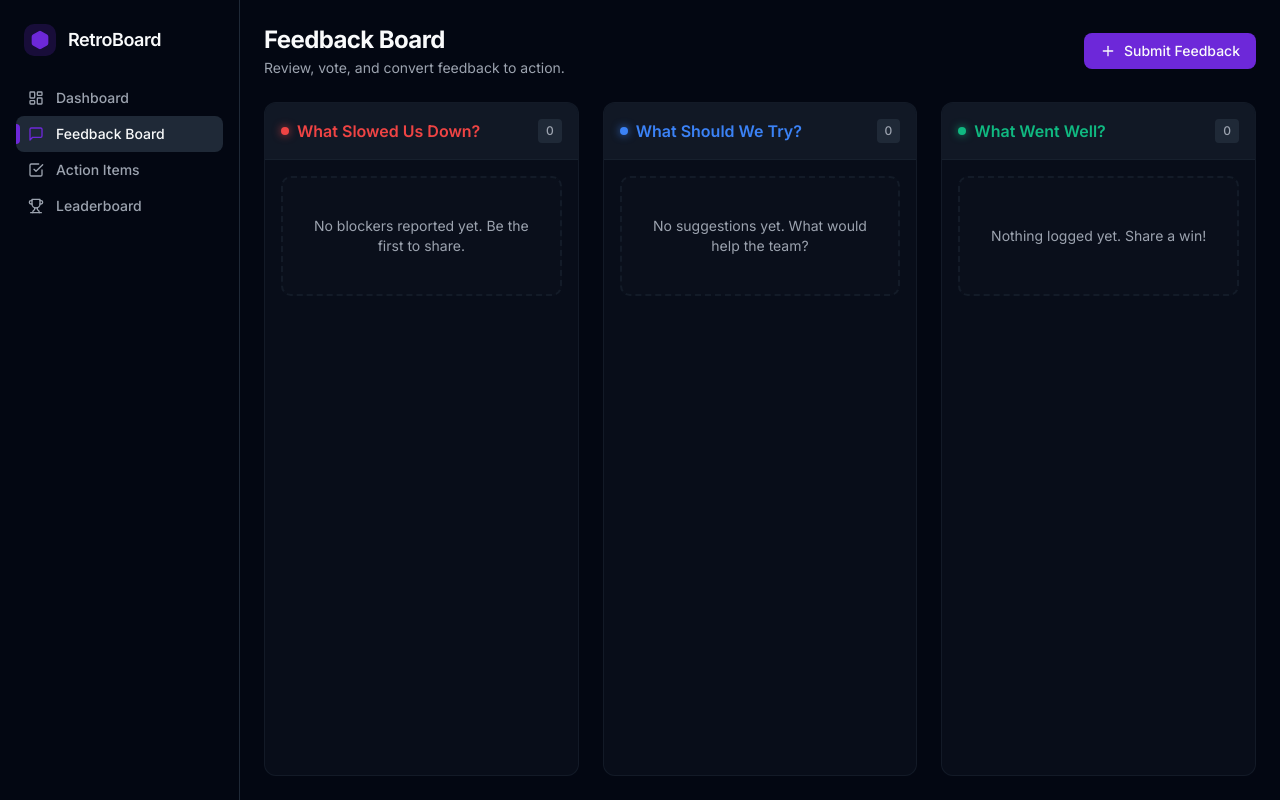
Test: FB-6: clicking Cancel closes the modal
The width and height of the screenshot is (1280, 800).
Click the button with test id "open-modal-btn". click: (1170, 51)
box: [1084,33,1256,69]
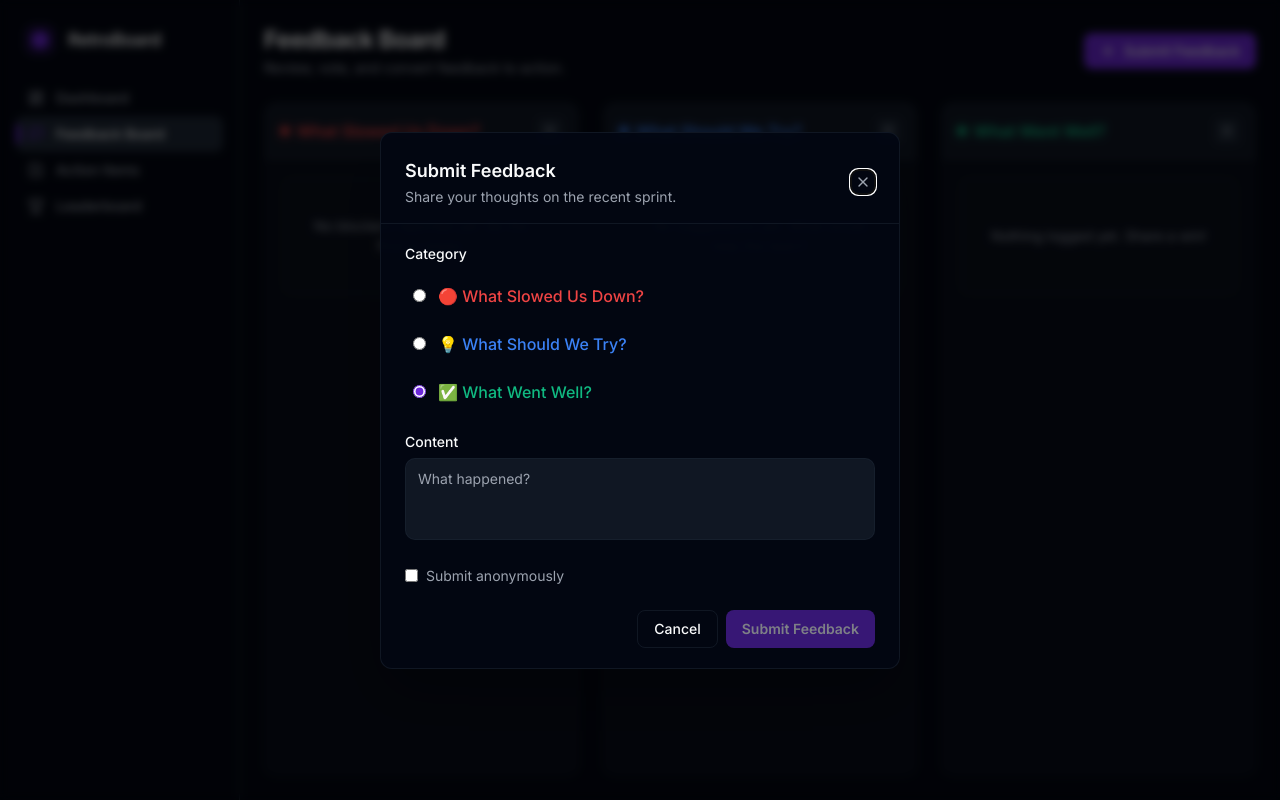
Expected: the dialog with test id "submit-feedback-modal" is shown, [380,132,900,668]
Click the button "Cancel". click: (678, 628)
box: [637,610,718,648]
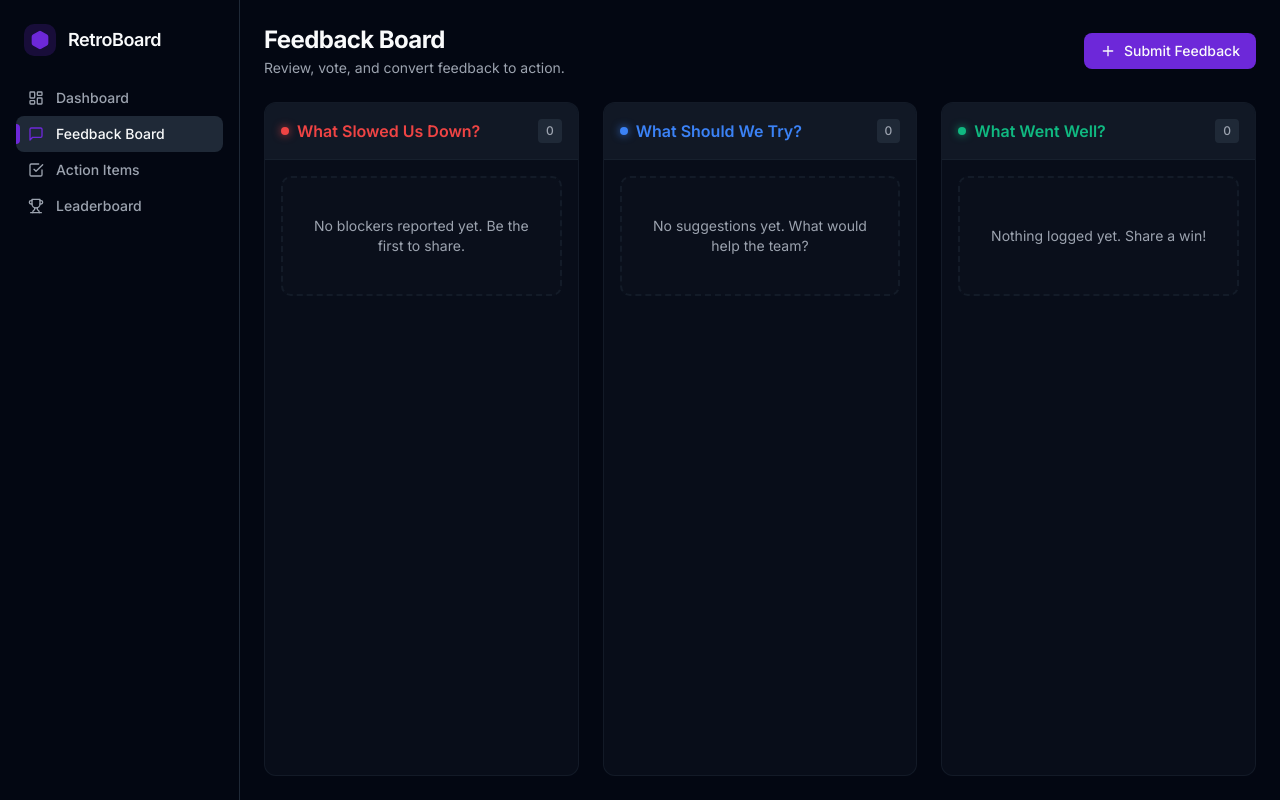
Expected: the dialog with test id "submit-feedback-modal" is gone
